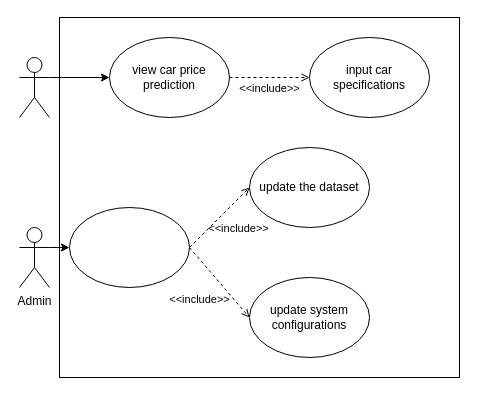
This 477x395 diagram has some shape labels left out. Here are the shapes that lost their labels. From the top down, the box of each, then its label:
(18, 56, 50, 118): User
(68, 206, 190, 288): model training
